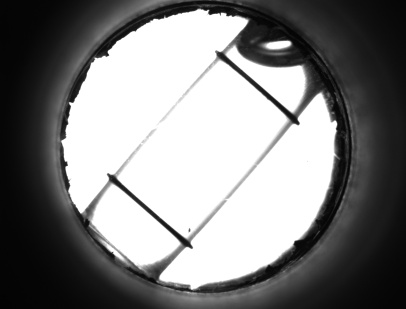line: (120, 194, 179, 226), (233, 78, 292, 104)
